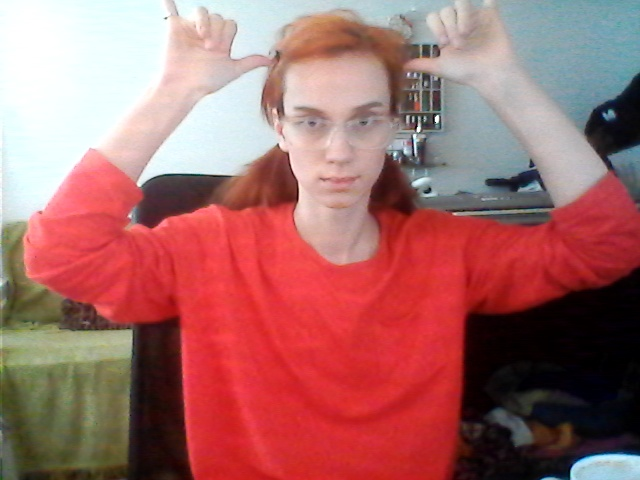krava: (143, 1, 551, 109)
